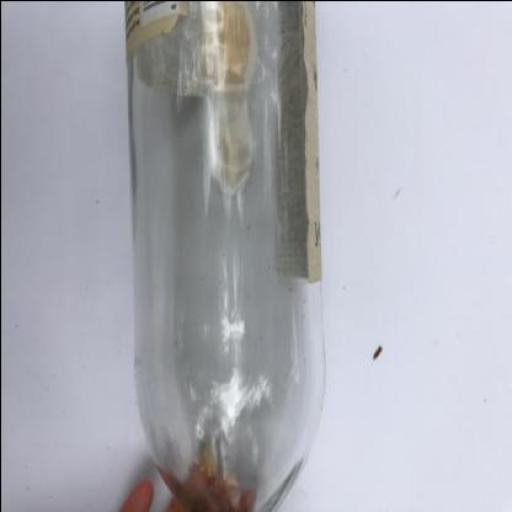glass: (124, 1, 325, 511)
